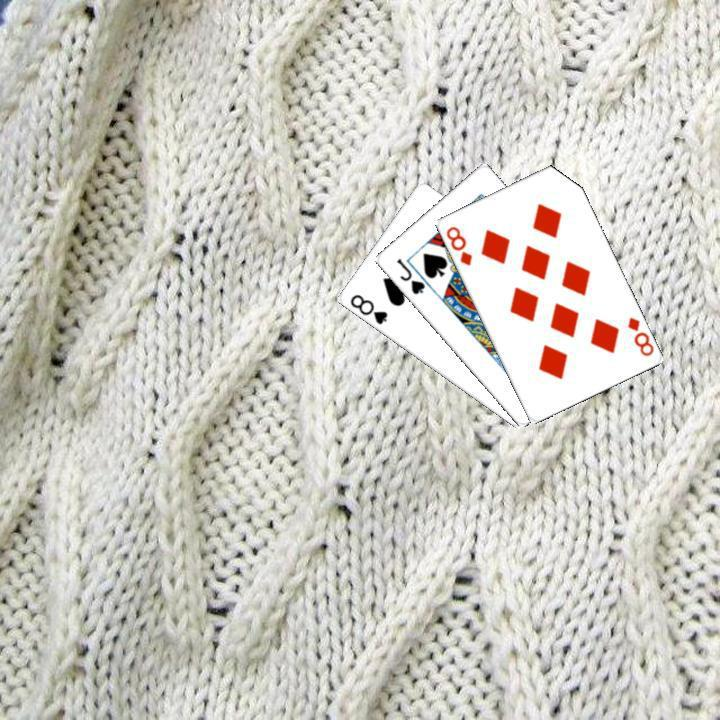8: (345, 290, 389, 327), (441, 222, 474, 268), (623, 312, 655, 358)
J: (392, 254, 427, 297)
